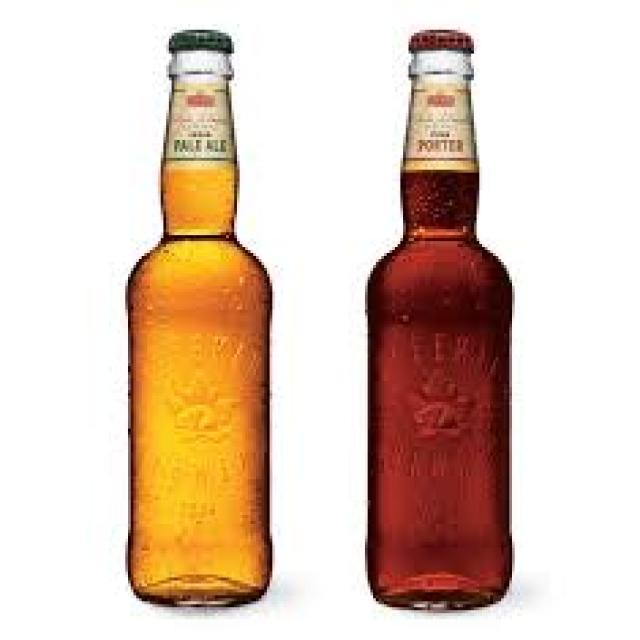glass: (365, 45, 506, 607), (128, 48, 267, 604)
metal: (166, 27, 232, 51), (406, 27, 468, 48)
